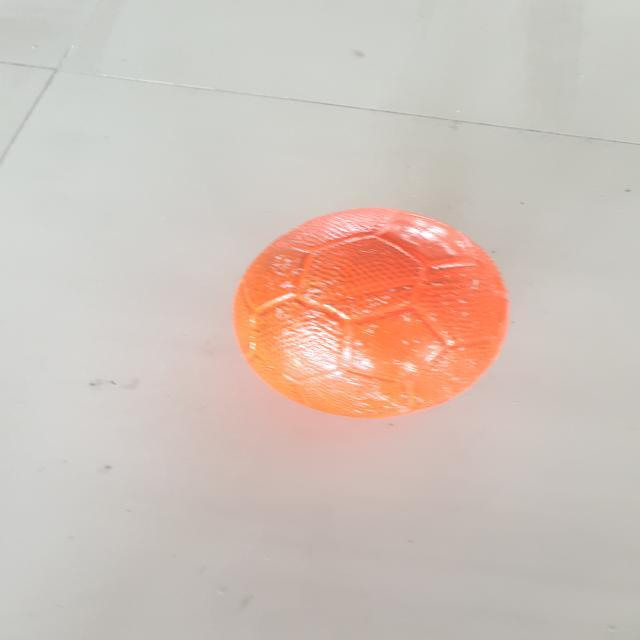bola: (223, 198, 531, 430)
